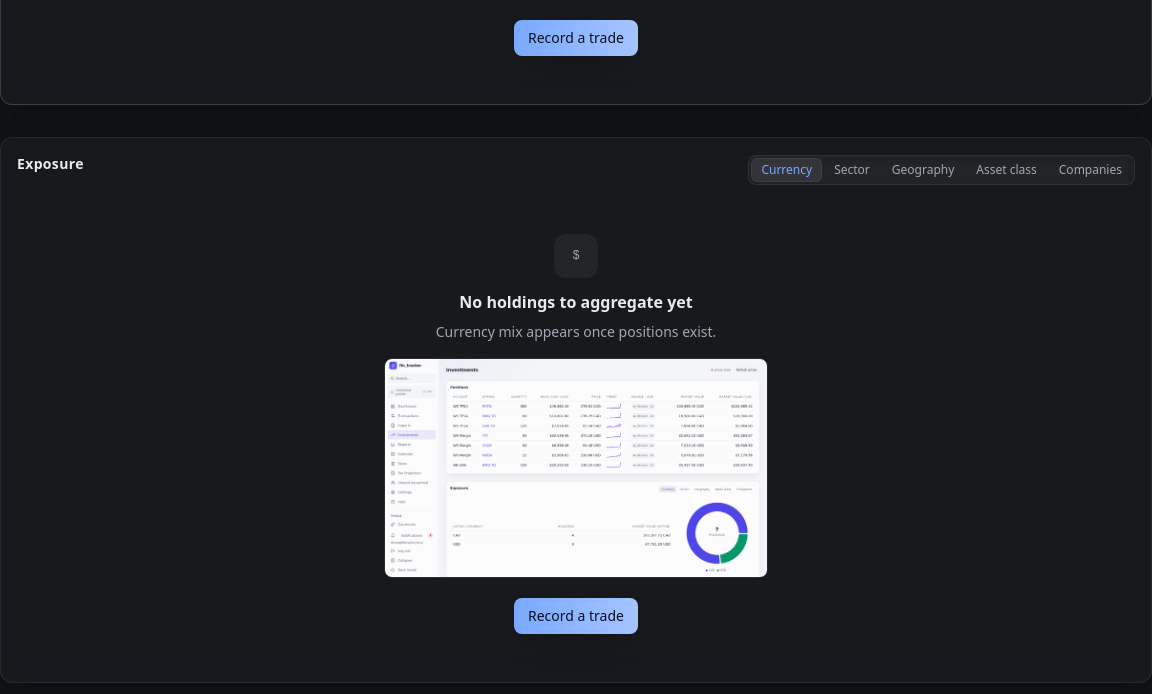
Test: M166 — the estimate honesty copy › marks only the estimated rows in the legend table
(page scrolled)
Click the tab "Sector".
click(852, 170)  # box [824, 158, 880, 182]
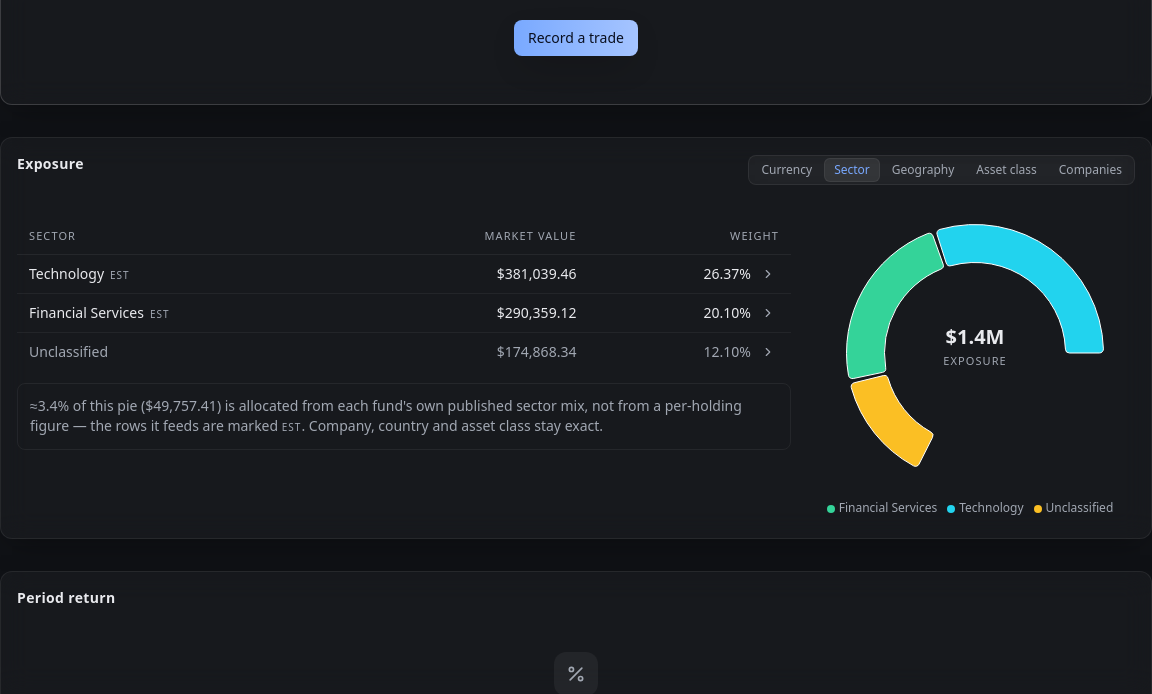
Result: the element named "Exposure breakdown table" is shown at [17, 218, 791, 372]
Result: the text "est" is shown 2 times at [110, 268, 130, 282]; [150, 307, 170, 321]
Result: the text "est" in the row of "$381,039.46" is shown at [110, 268, 130, 282]
